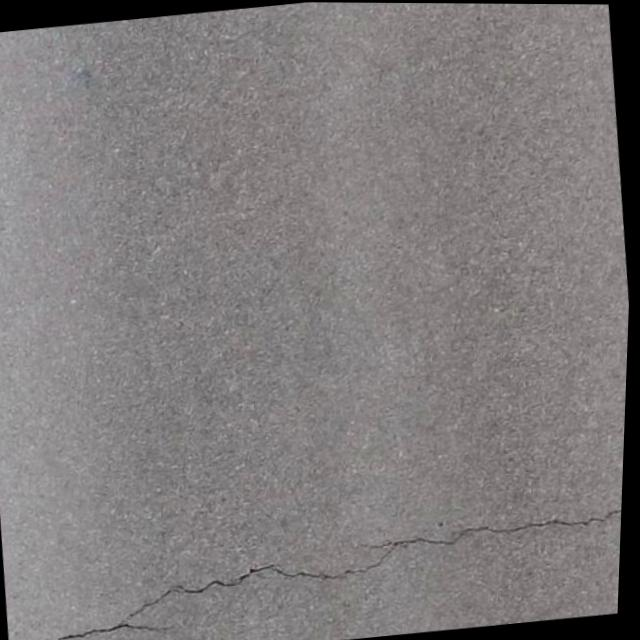Crack: (13, 489, 626, 640)
